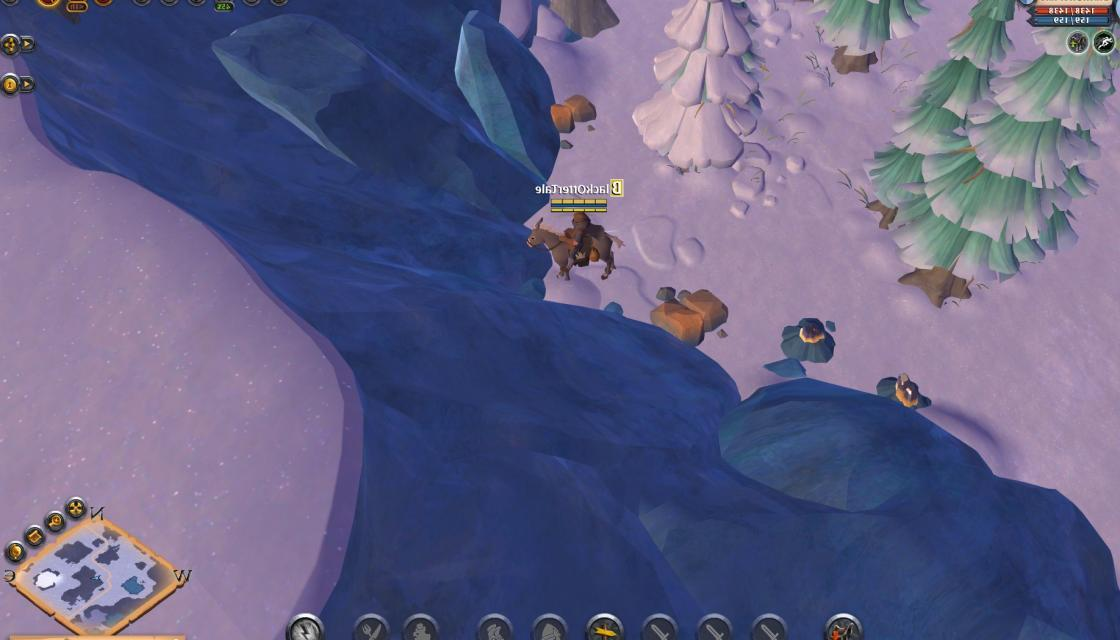copperore: (873, 366, 941, 413), (780, 312, 837, 364)
limestone: (644, 282, 736, 348), (550, 92, 598, 136)
